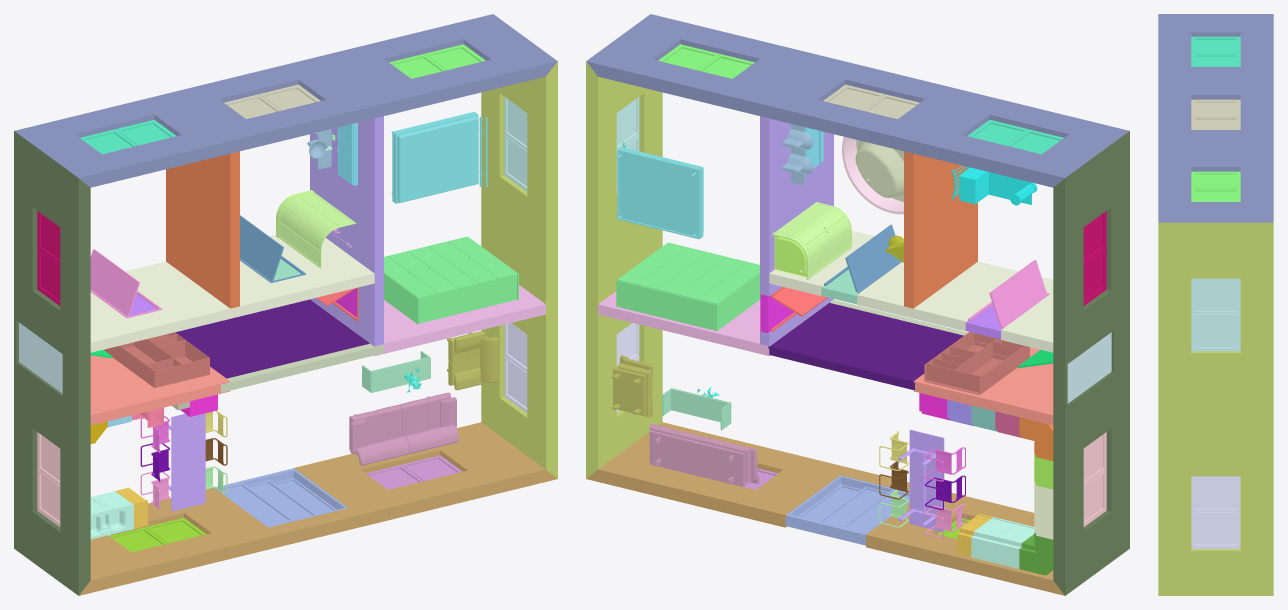
File: space5.glb
3 views of the same model, side by side, from view 1: azimuth 30°, elevation 25°; view 2: azimuth 150°, elevation 25°; view 3: azimuth 270°, elevation 25° (orthographic). The views are drawn at different scales.
Bounding box in the file's own units: 600 × 500 × 140.
